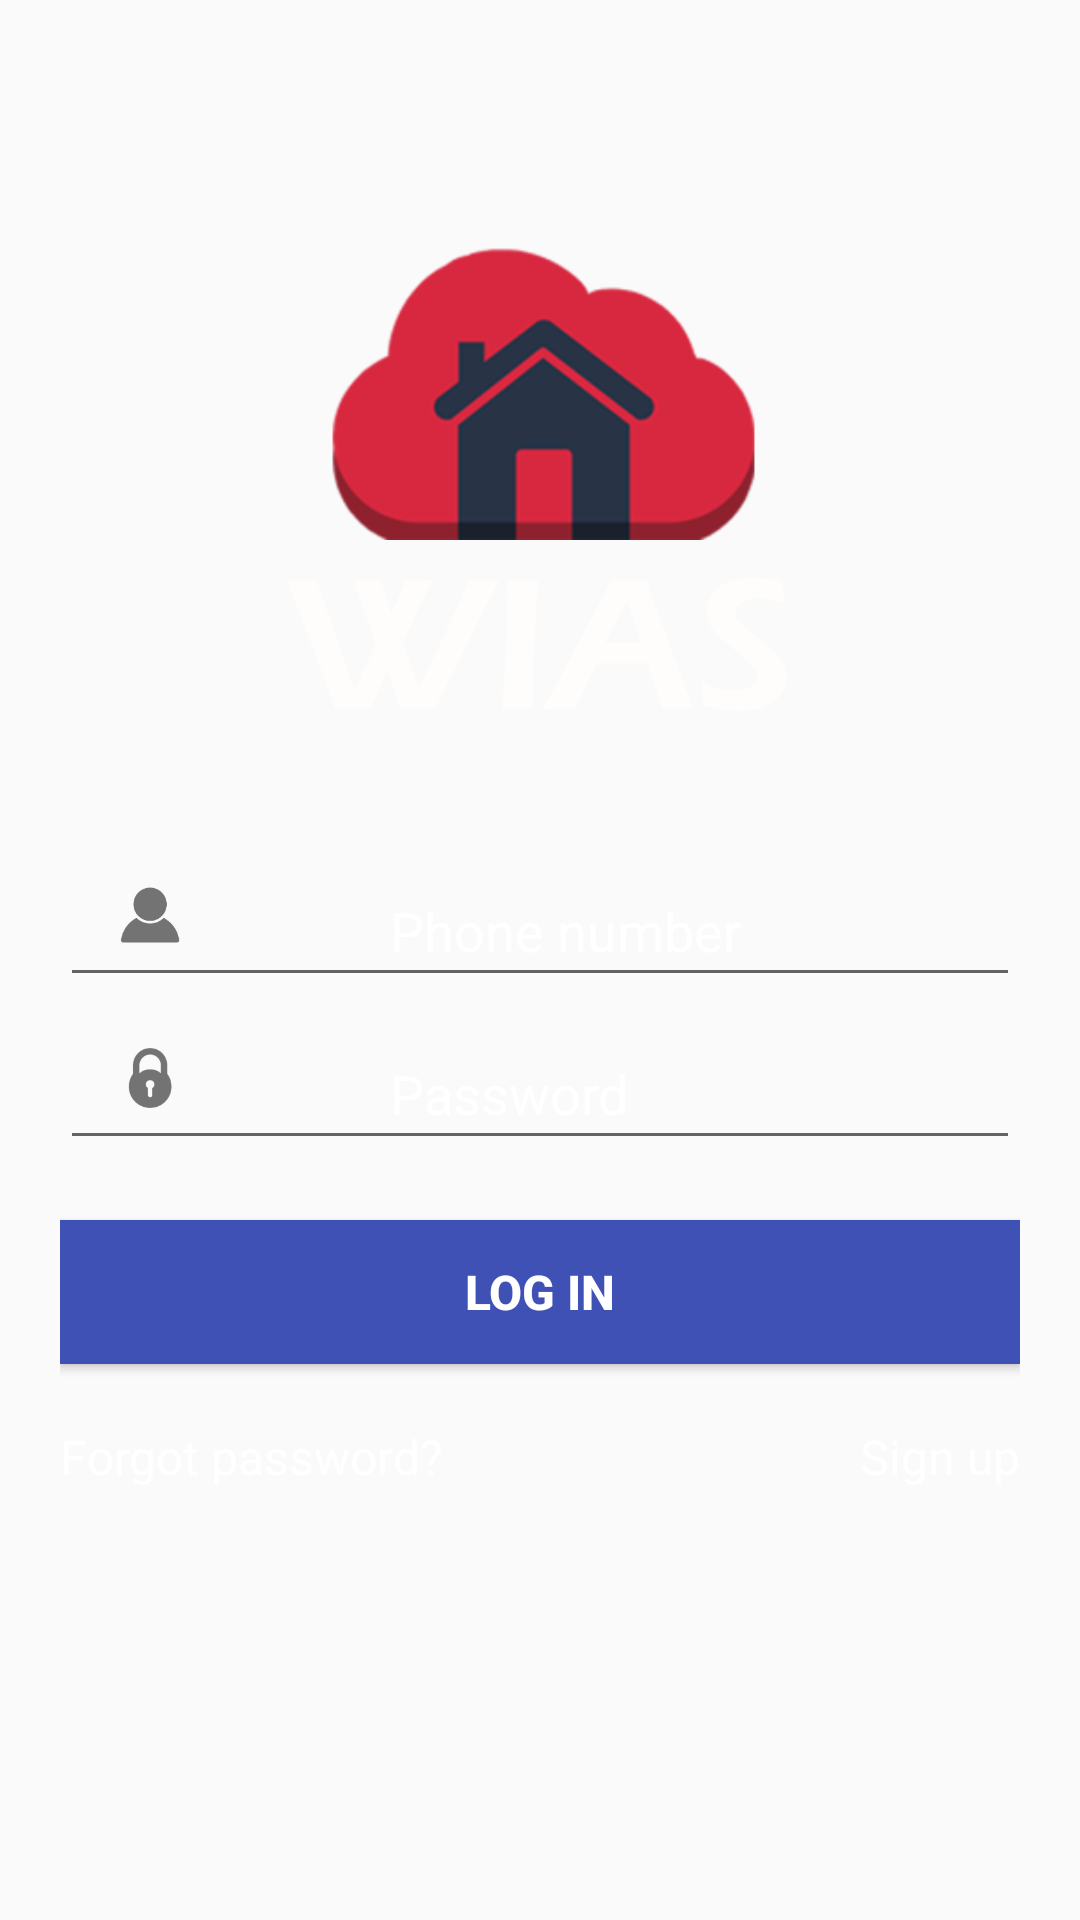

Named icons in this screenshot (1080*1920) and their bounding boxes, (x1, y1, x2, y2):
user: (121, 887, 179, 943)
